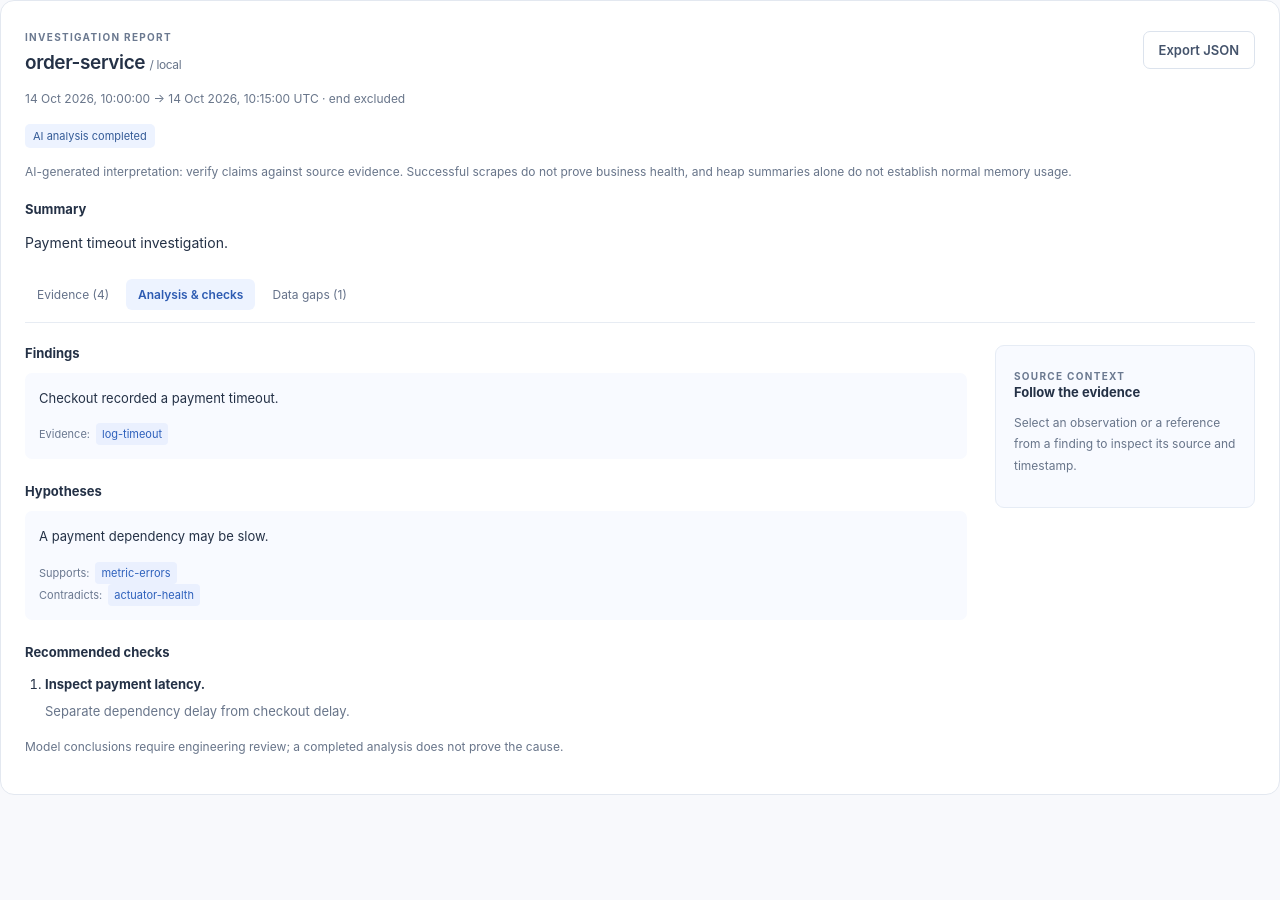
it: investigation report › connects analysis references to accessible evidence details and restores focus on close
Click the button "Analysis & checks".
click(191, 294)  # box [126, 279, 255, 310]
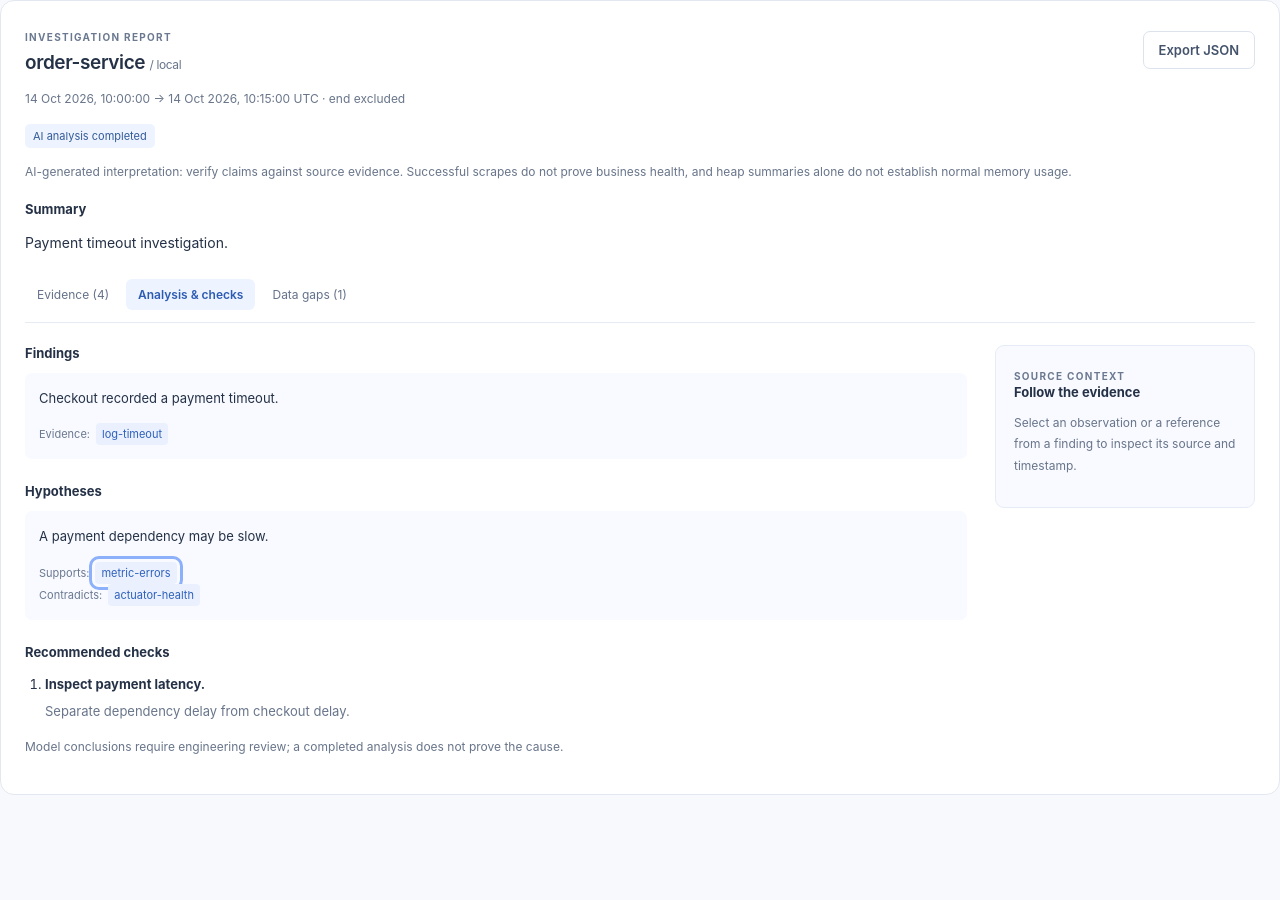
Expected: the text "Checkout recorded a payment timeout." is shown, [39, 390, 279, 406]
Expected: the text "Supports:" is shown, [39, 566, 89, 580]
Press Enter
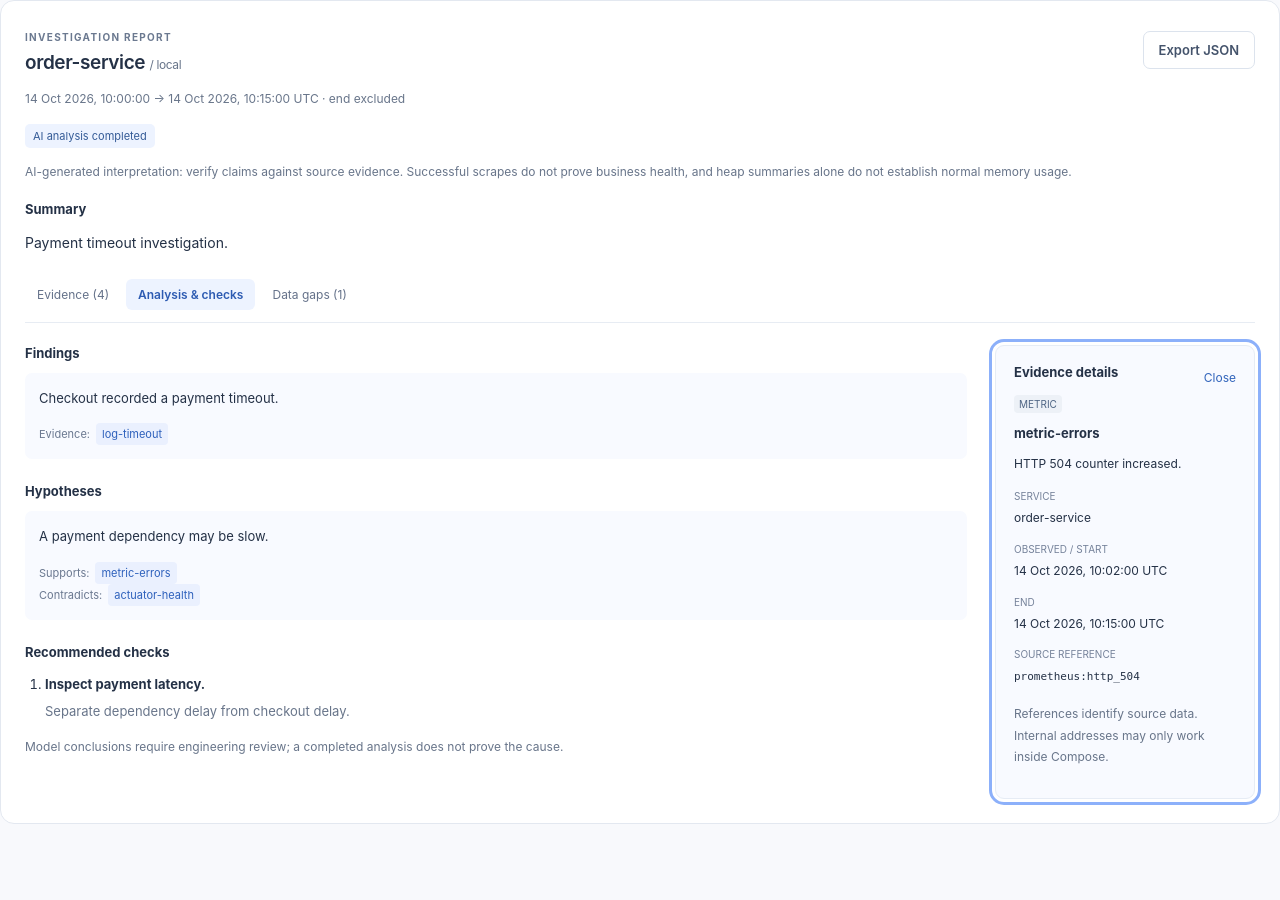
Expected: the heading "metric-errors" is shown, [1014, 425, 1100, 441]
Expected: the text "prometheus:http_504" is shown, [1014, 670, 1140, 683]
Expected: the text "End" is shown, [1014, 596, 1035, 608]
Press Tab
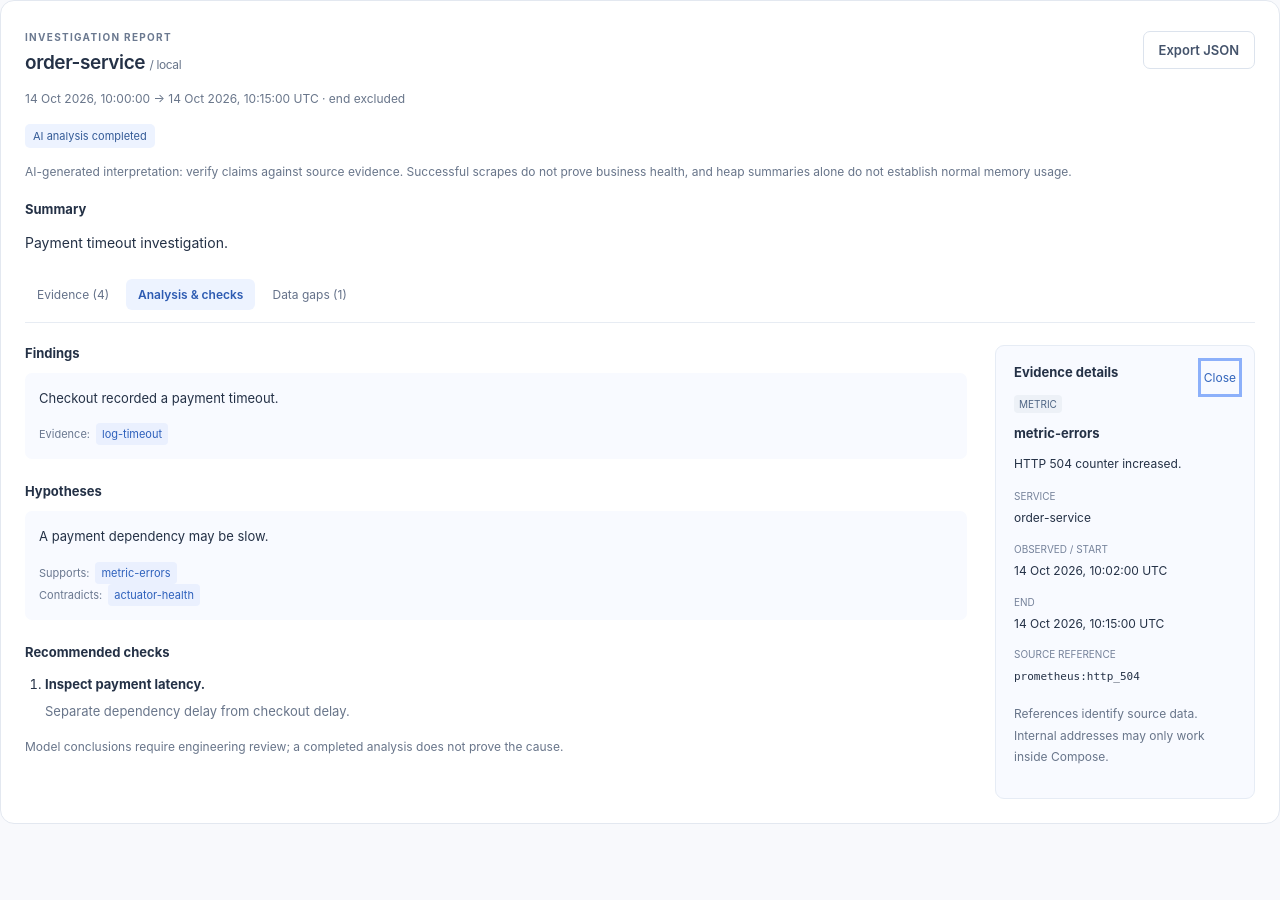
Press Enter
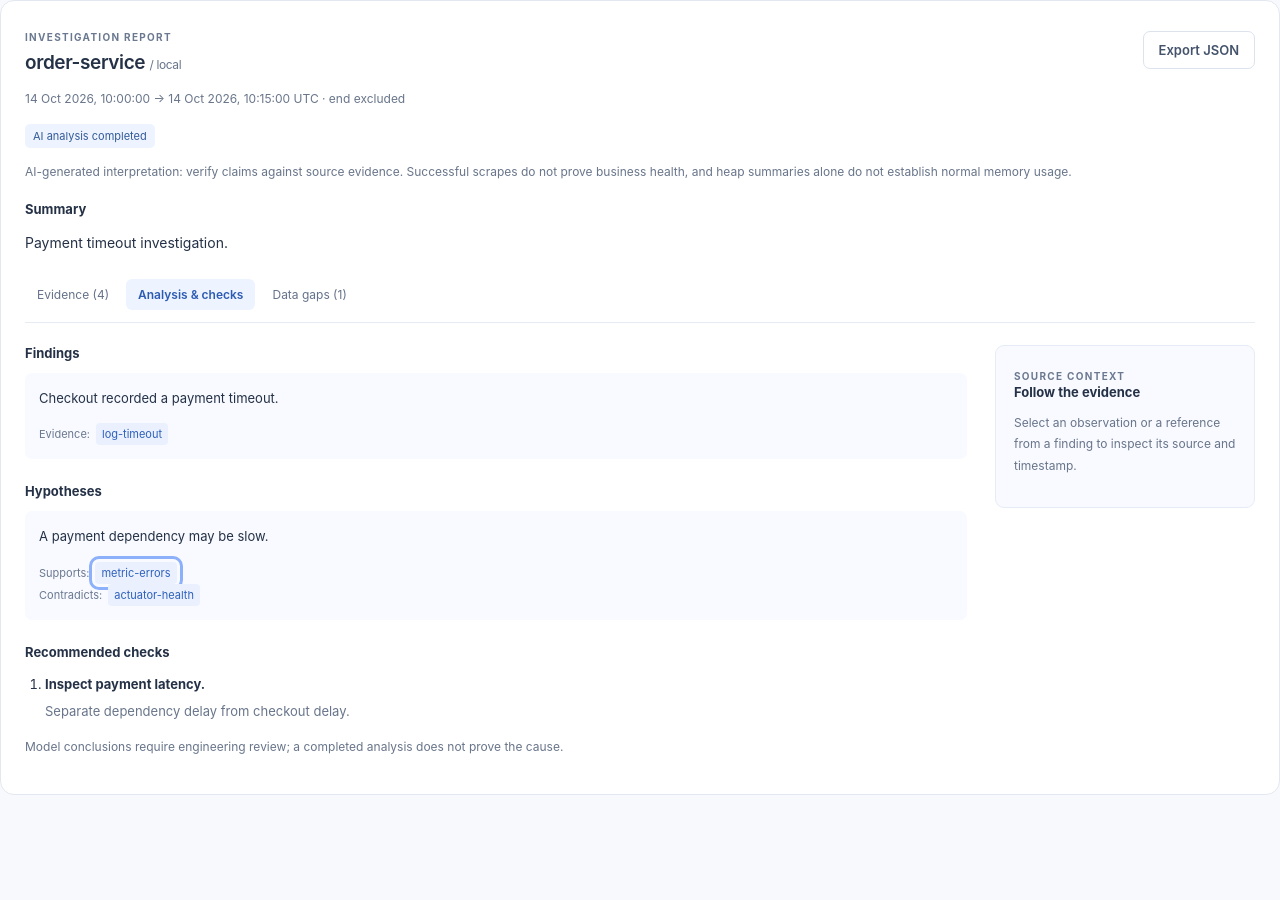
Expected: the heading "Follow the evidence" is shown, [1014, 384, 1140, 400]
Expected: the button "Close" is gone
